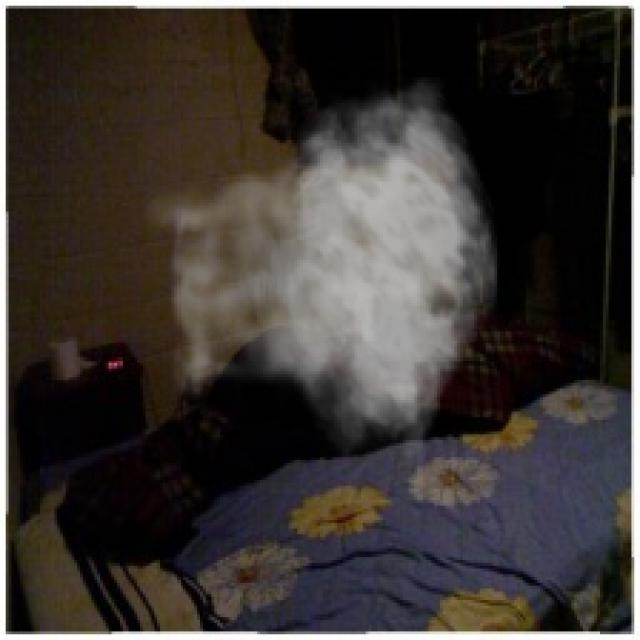smoke: (137, 77, 500, 469)
